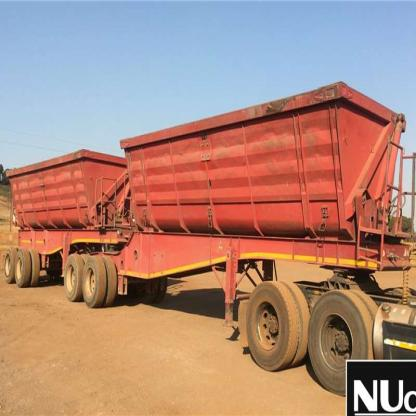dump_truck: (3, 71, 416, 397)
